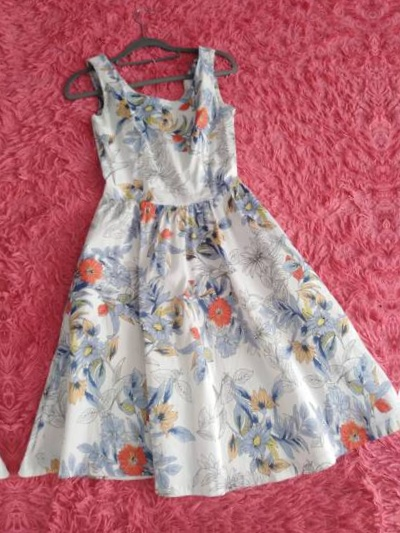Dress: (0, 10, 400, 507), (377, 0, 400, 482), (0, 35, 15, 533)
